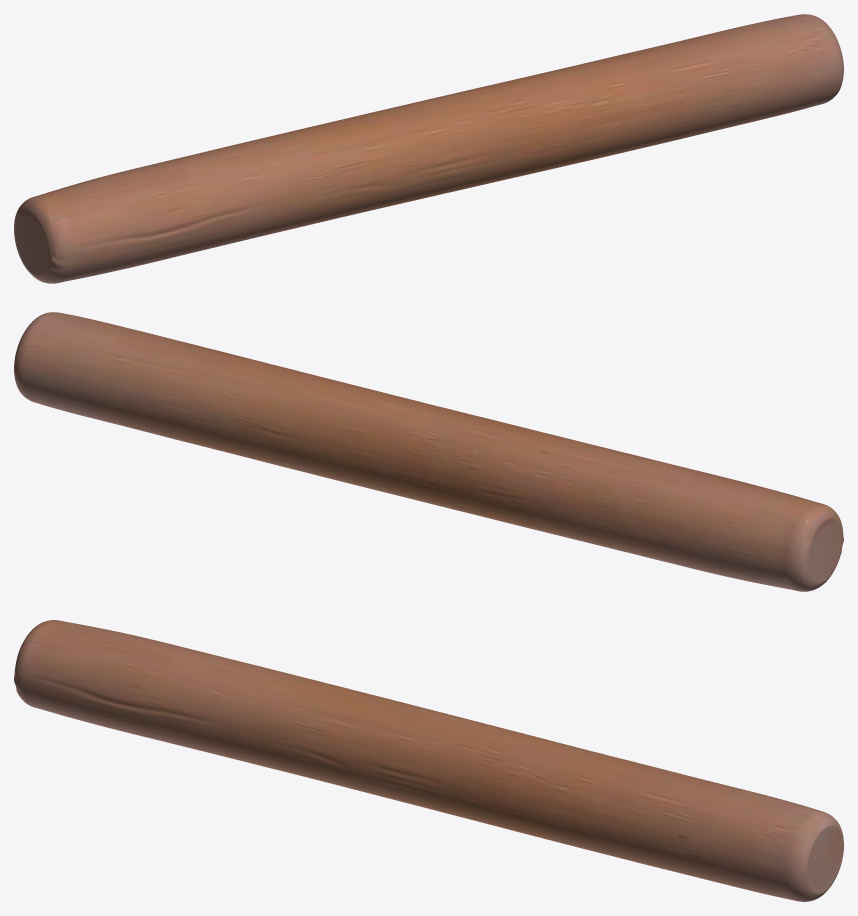
The model's file is tool-ganmianzhang.glb.
The picture shows the model from 3 angles, top to bottom: view 1: azimuth 30°, elevation 25°; view 2: azimuth 150°, elevation 25°; view 3: azimuth 330°, elevation 25°; orthographic projection.
Parts seen in each view (by area): view 1: node_0; view 2: node_0; view 3: node_0.
Part boxes in pixels (left/top/right/bottom): node_0: left=14, top=14, right=843, bottom=283; node_0: left=14, top=312, right=843, bottom=591; node_0: left=14, top=620, right=843, bottom=901.
Bounding box in the file's own units: 1.2 × 0.1242 × 0.1428.
1 material, 1 textured.
